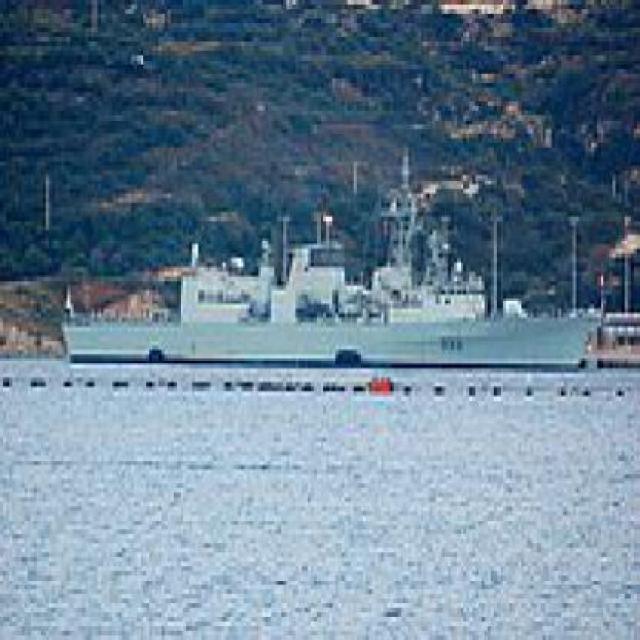warship2: (50, 162, 617, 379)
